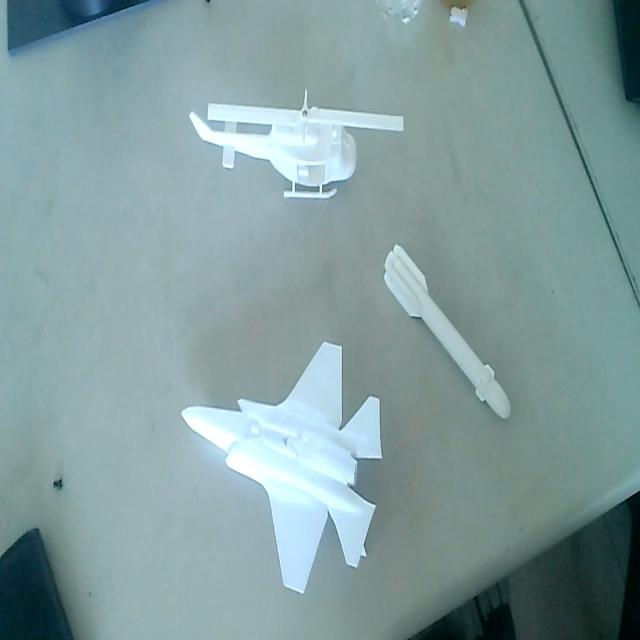Helicopter: (188, 89, 410, 206)
Jet: (183, 339, 385, 591)
Rocket: (383, 241, 515, 429)
